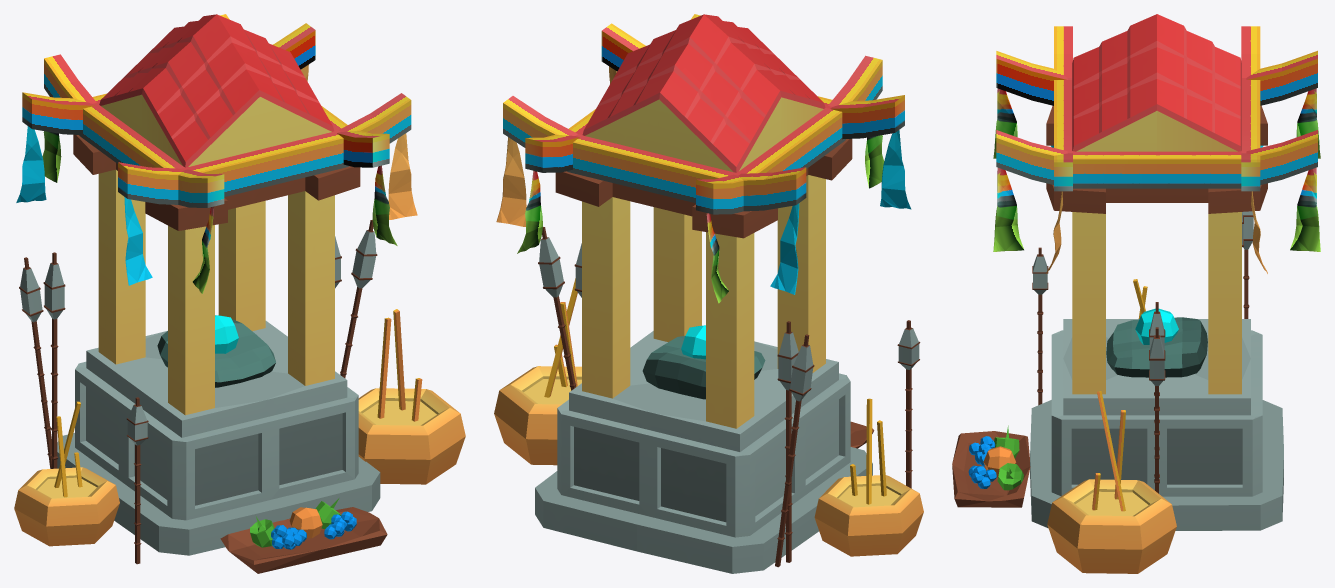
The model's file is hotel colo.fbx.
3 views of the same model, side by side, from view 1: azimuth 30°, elevation 25°; view 2: azimuth 150°, elevation 25°; view 3: azimuth 270°, elevation 25° (orthographic). The views are drawn at different scales.
Parts seen in each view (by area): view 1: Cube.020; view 2: Cube.020; view 3: Cube.020.
Part boxes in pixels (x1=…): Cube.020: x1=14, y1=14, x2=465, y2=573; Cube.020: x1=494, y1=14, x2=923, y2=573; Cube.020: x1=952, y1=14, x2=1320, y2=573.
Size of the model in its own units: 775 by 865 by 618.
